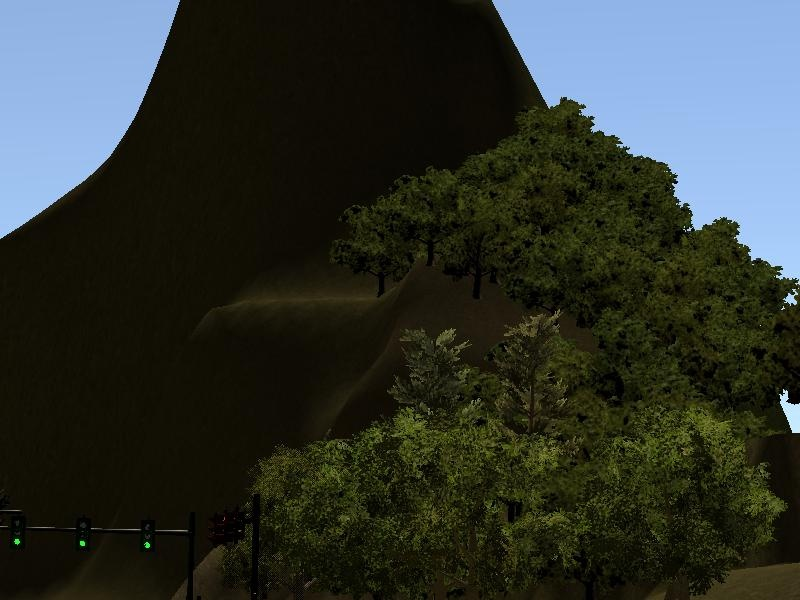GREEN: (73, 513, 95, 560), (6, 510, 28, 555), (137, 515, 158, 558)
